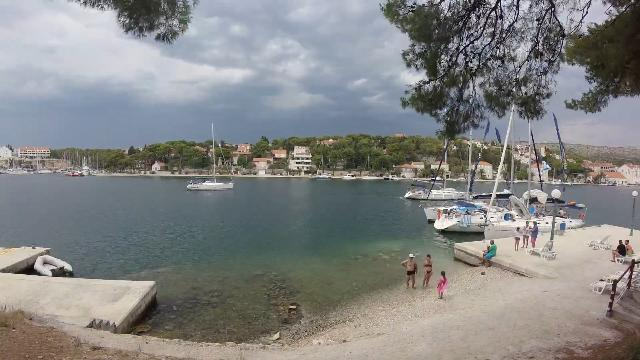Sailboat: (184, 168, 236, 194)
